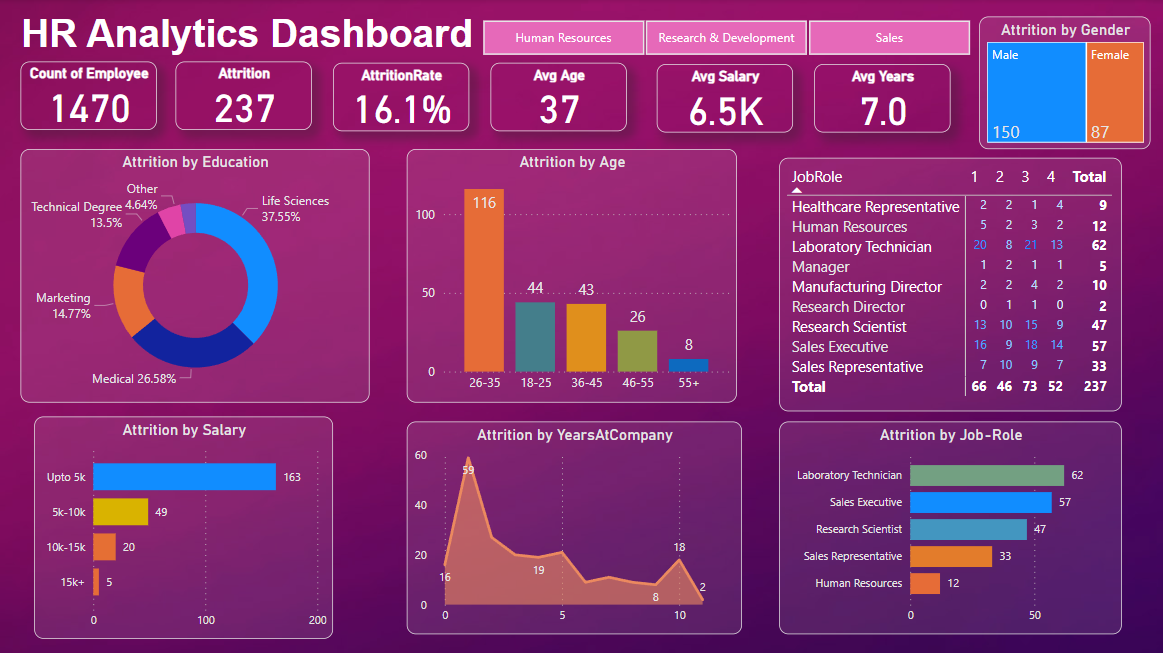

This screenshot's page, from the dashboard's own definition file:
{"tool":"powerbi","page":{"name":"Page 1","canvas":[1280,720],"ordinal":0},"visuals":[{"type":"card","title":"Count of Employee","fields":{"Values":["CountNonNull(HR_Analytics.EmpID)"]},"box":[24.7,68.6,149.6,75.5],"z":0},{"type":"card","title":"Attrition","fields":{"Values":["Sum(HR_Analytics.AttritionCount)"]},"box":[194.9,68.6,149.6,75.5],"z":1000},{"type":"card","title":"AttritionRate","fields":{"Values":["HR_Analytics.AttritionRate"]},"box":[367.8,70,149.6,75.5],"z":2000},{"type":"card","title":"Avg Age","fields":{"Values":["Avg(HR_Analytics.Age)"]},"box":[540.7,70,149.6,75.5],"z":3000},{"type":"card","title":"Avg Salary","fields":{"Values":["Avg(HR_Analytics.MonthlyIncome)"]},"box":[723.2,71.4,149.6,75.5],"z":4000},{"type":"card","title":"Avg Years","fields":{"Values":["Avg(HR_Analytics.YearsAtCompany)"]},"box":[896.1,71.4,149.6,75.5],"z":5000},{"type":"donutChart","title":" Attrition by Education","fields":{"Category":["HR_Analytics.EducationField"],"Y":["Sum(HR_Analytics.AttritionCount)"]},"box":[24.7,164.7,382.8,278.6],"z":6000},{"type":"columnChart","title":"Attrition by Age","fields":{"Category":["HR_Analytics.AgeGroup"],"Y":["Sum(HR_Analytics.AttritionCount)"]},"box":[448.7,164.7,362.3,278.6],"z":7000},{"type":"pivotTable","fields":{"Columns":["HR_Analytics.JobSatisfaction"],"Rows":["HR_Analytics.JobRole"],"Values":["Sum(HR_Analytics.AttritionCount)"]},"box":[857.6,174.3,376,278.6],"z":8000},{"type":"barChart","title":"Attrition by Salary","fields":{"Category":["HR_Analytics.SalarySlab"],"Y":["Sum(HR_Analytics.AttritionCount)"]},"box":[39.8,458.3,328,244.3],"z":8001},{"type":"barChart","title":"Attrition by Job-Role","fields":{"Y":["Sum(HR_Analytics.AttritionCount)"],"Category":["HR_Analytics.JobRole"]},"box":[857.6,463.8,376,233.3],"z":8002},{"type":"areaChart","title":"Attrition by YearsAtCompany","fields":{"Category":["HR_Analytics.YearsAtCompany"],"Y":["Sum(HR_Analytics.AttritionCount)"]},"box":[448.7,463.8,367.8,233.3],"z":8003},{"type":"treemap","title":"Attrition by Gender","fields":{"Group":["HR_Analytics.Gender"],"Values":["Sum(HR_Analytics.AttritionCount)"]},"box":[1077.2,19.2,188,145.5],"z":8004},{"type":"textbox","box":[7.1,8.6,532.9,60],"z":8005},{"type":"slicer","fields":{"Values":["HR_Analytics.Department"]},"box":[506.3,16.5,584.6,52.1],"z":8006}]}

Visuals, with their boxes in screenshot pixels (x1, y1, x2, y2), scaled from the page's 1280x720 canvas onto the 1163x653 screenshot:
"Count of Employee" card: {"x1": 22, "y1": 62, "x2": 158, "y2": 131}
"Attrition" card: {"x1": 177, "y1": 62, "x2": 313, "y2": 131}
"AttritionRate" card: {"x1": 334, "y1": 63, "x2": 470, "y2": 132}
"Avg Age" card: {"x1": 491, "y1": 63, "x2": 627, "y2": 132}
"Avg Salary" card: {"x1": 657, "y1": 65, "x2": 793, "y2": 133}
"Avg Years" card: {"x1": 814, "y1": 65, "x2": 950, "y2": 133}
" Attrition by Education" donutChart: {"x1": 22, "y1": 149, "x2": 370, "y2": 402}
"Attrition by Age" columnChart: {"x1": 408, "y1": 149, "x2": 737, "y2": 402}
pivotTable - HR_Analytics.JobSatisfaction x HR_Analytics.JobRole: {"x1": 779, "y1": 158, "x2": 1121, "y2": 411}
"Attrition by Salary" barChart: {"x1": 36, "y1": 416, "x2": 334, "y2": 637}
"Attrition by Job-Role" barChart: {"x1": 779, "y1": 421, "x2": 1121, "y2": 632}
"Attrition by YearsAtCompany" areaChart: {"x1": 408, "y1": 421, "x2": 742, "y2": 632}
"Attrition by Gender" treemap: {"x1": 979, "y1": 17, "x2": 1150, "y2": 149}
textbox: {"x1": 6, "y1": 8, "x2": 491, "y2": 62}
slicer - HR_Analytics.Department: {"x1": 460, "y1": 15, "x2": 991, "y2": 62}
